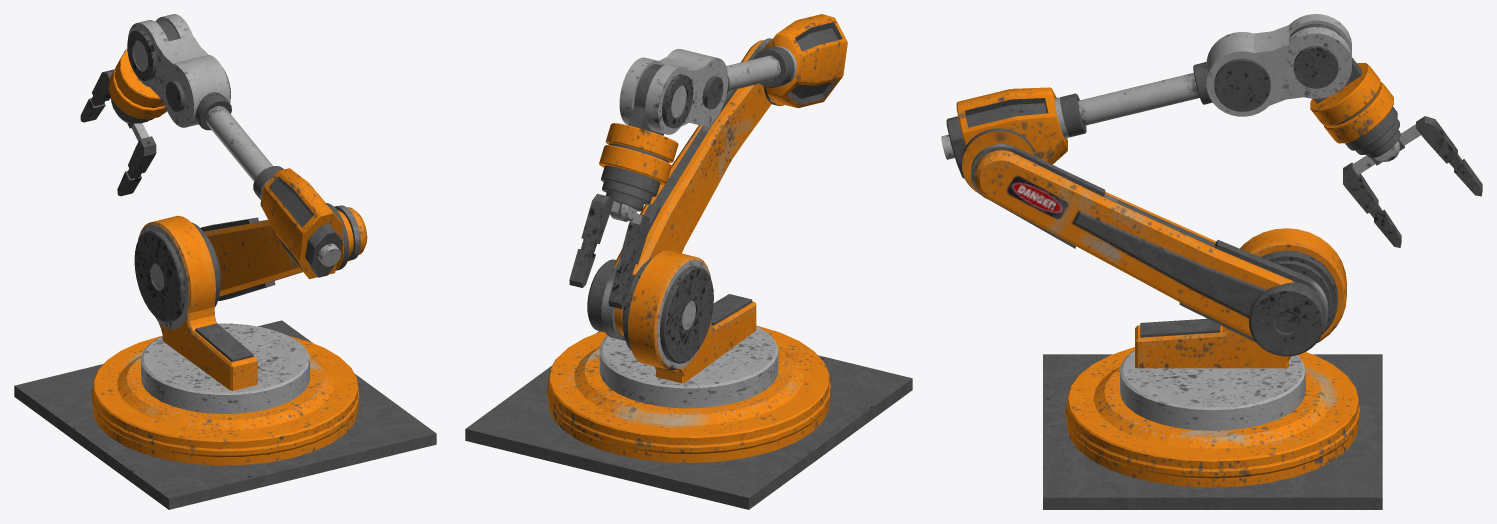
The model's file is hero-robot.glb.
The picture shows the model from 3 angles, left to right: view 1: azimuth 30°, elevation 25°; view 2: azimuth 150°, elevation 25°; view 3: azimuth 270°, elevation 25°; orthographic projection. The views are drawn at different scales.
Parts seen in each view (by area): view 1: Base, Object005_01 - Default_0, Cylinder001, Cylinder002_01 - Default_0, Cylinder016, Cylinder005, Box001, Cylinder003_01 - Default_0, Cylinder013, Cylinder018, Box007, Object002_01 - Default_0 (+3 smaller); view 2: Base, Object005_01 - Default_0, Cylinder005, Cylinder001, Cylinder002_01 - Default_0, Cylinder016, Box001, Cylinder003_01 - Default_0, Box004, Box007, Cylinder020, Cylinder018 (+6 smaller); view 3: Cylinder005, Base, Object005_01 - Default_0, Cylinder016, Cylinder001, Cylinder002_01 - Default_0, Box001, Cylinder006, Cylinder013, Cylinder018, Cylinder003_01 - Default_0, Box004 (+6 smaller).
Boxes of the visible parts, x1,y1,x2,y2 form: Base: [91, 336, 359, 465]; Object005_01 - Default_0: [14, 320, 436, 509]; Cylinder001: [141, 323, 309, 413]; Cylinder002_01 - Default_0: [138, 215, 257, 390]; Cylinder016: [127, 14, 230, 127]; Cylinder005: [200, 205, 367, 300]; Box001: [260, 168, 342, 279]; Cylinder003_01 - Default_0: [134, 222, 220, 322]; Cylinder013: [205, 106, 272, 181]; Cylinder018: [114, 49, 164, 107]; Box007: [117, 136, 156, 196]; Object002_01 - Default_0: [305, 223, 341, 277]; Base: [547, 325, 830, 462]; Object005_01 - Default_0: [465, 331, 912, 509]; Cylinder005: [601, 38, 771, 340]; Cylinder001: [599, 326, 778, 408]; Cylinder002_01 - Default_0: [628, 250, 756, 383]; Cylinder016: [619, 49, 728, 134]; Box001: [764, 14, 847, 108]; Cylinder003_01 - Default_0: [622, 257, 713, 363]; Box004: [569, 193, 614, 287]; Box007: [608, 214, 649, 308]; Cylinder020: [599, 145, 671, 184]; Cylinder018: [605, 123, 678, 162]; Cylinder005: [971, 144, 1328, 342]; Base: [1065, 347, 1359, 487]; Object005_01 - Default_0: [1043, 354, 1382, 509]; Cylinder016: [1206, 14, 1351, 116]; Cylinder001: [1120, 350, 1305, 430]; Cylinder002_01 - Default_0: [1135, 228, 1346, 368]; Box001: [956, 87, 1067, 164]; Cylinder006: [1249, 281, 1324, 356]; Cylinder013: [1078, 73, 1199, 125]; Cylinder018: [1310, 63, 1380, 125]; Cylinder003_01 - Default_0: [1261, 250, 1337, 334]; Box004: [1416, 116, 1482, 196].
Size of the model in its own units: 1000 by 1319 by 1595.
1 material, 1 textured.
